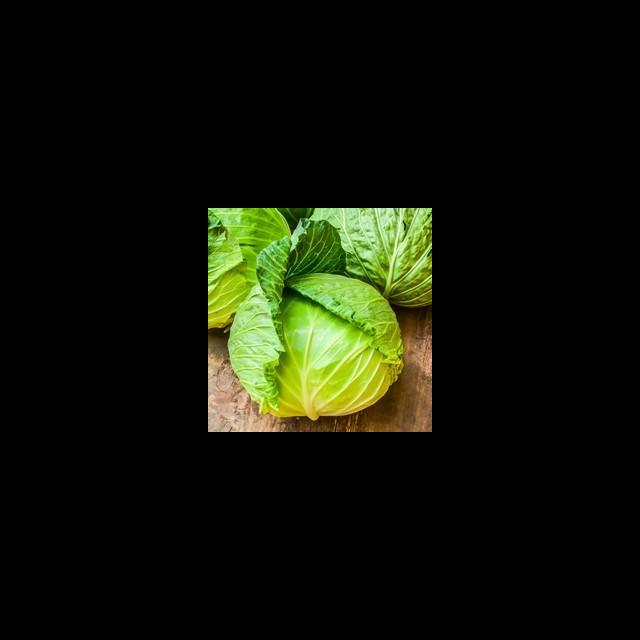cabbage: (229, 219, 403, 420)
